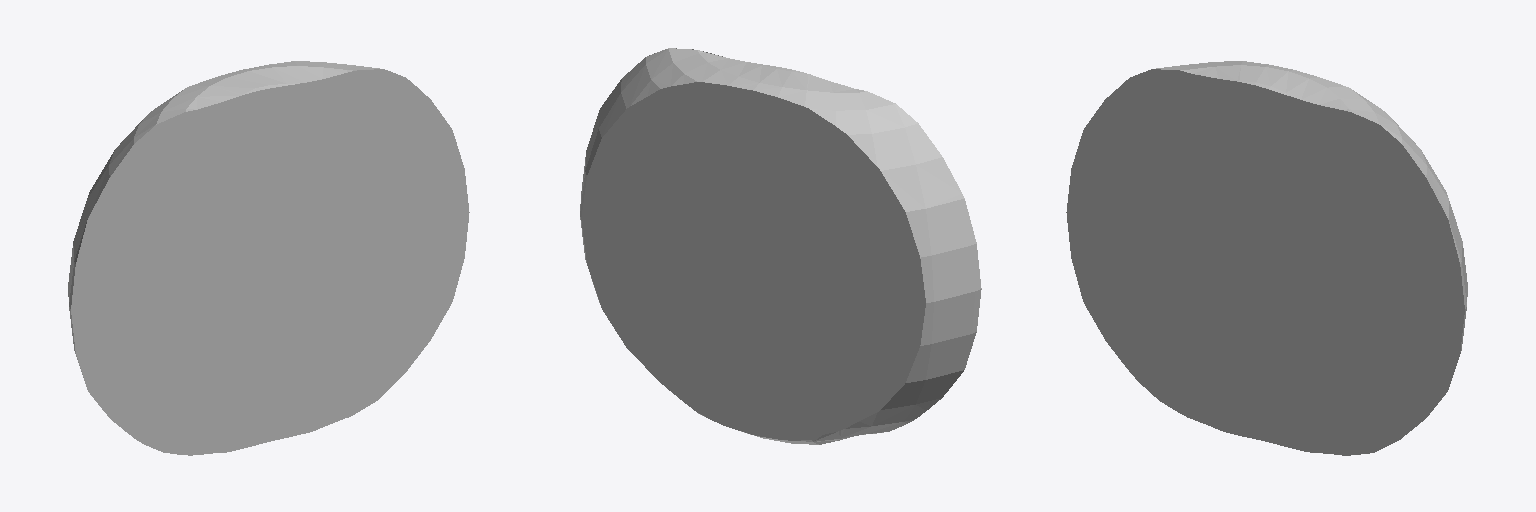
Rendered from apple_slice_03.obj.
The picture shows the model from 3 angles: view 1: azimuth 30°, elevation 25°; view 2: azimuth 150°, elevation 25°; view 3: azimuth 330°, elevation 25°; orthographic projection.
Parts seen in each view (by area): view 1: Apple.Slices.001_Sphere.002; view 2: Apple.Slices.001_Sphere.002; view 3: Apple.Slices.001_Sphere.002.
Boxes of the visible parts, x1,y1,x2,y2 form: Apple.Slices.001_Sphere.002: [68, 61, 469, 455]; Apple.Slices.001_Sphere.002: [580, 48, 981, 444]; Apple.Slices.001_Sphere.002: [1066, 61, 1467, 455].
Size of the model in its own units: 1.78 by 1.53 by 0.2212.